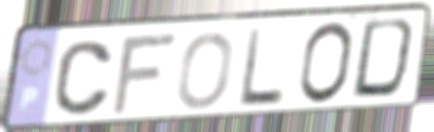C: (51, 38, 116, 118)
D: (348, 16, 423, 103)
F: (108, 30, 181, 119)
L: (236, 26, 287, 110)
O: (296, 20, 356, 108), (174, 30, 236, 112)
